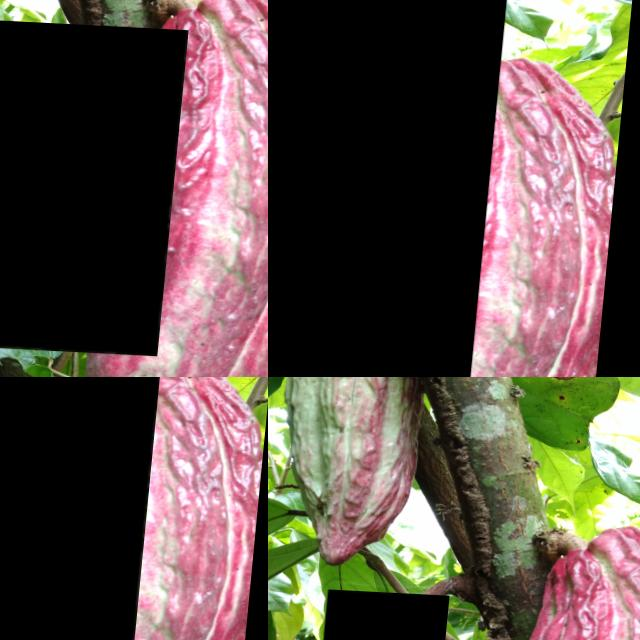Monilia: (315, 586, 454, 640)
Sana: (268, 0, 509, 377), (0, 12, 193, 350), (0, 377, 171, 640), (268, 377, 423, 566), (474, 515, 640, 640)
